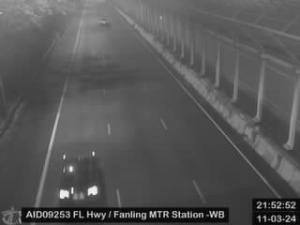vehicle: (57, 151, 106, 207), (99, 18, 109, 26)
